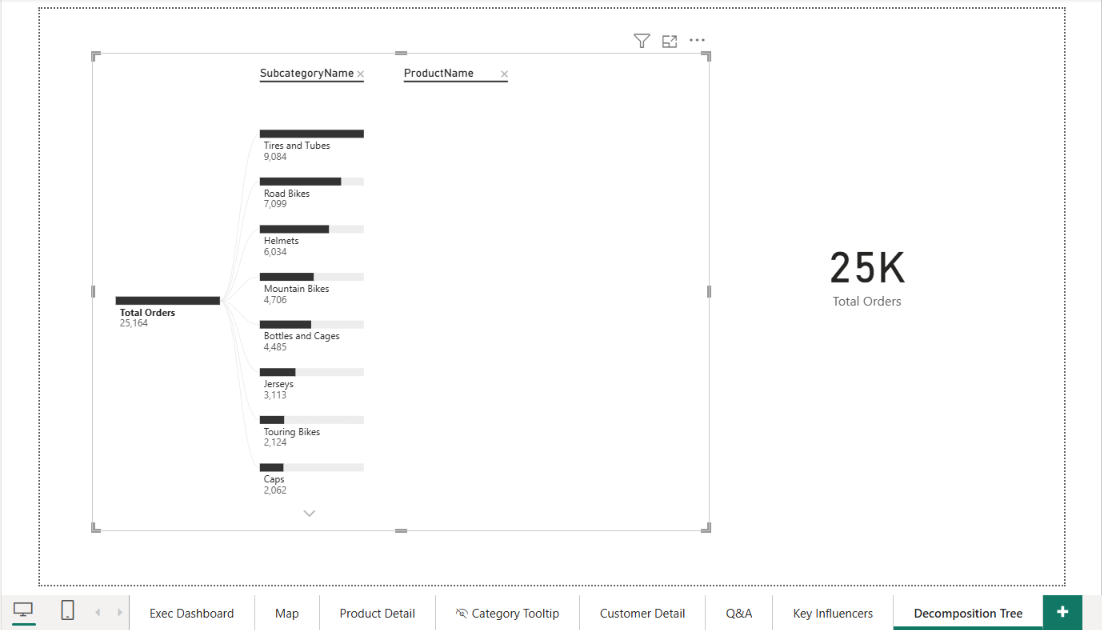

The page's visual inventory and layout, read from the dashboard file:
{"tool":"powerbi","page":{"name":"Decomposition Tree","canvas":[1280,720],"ordinal":7},"visuals":[{"type":"decompositionTreeVisual","fields":{"ExplainBy":["Product Categories Lookup.CategoryName","Product Subcategories Lookup.SubcategoryName","Product Lookup.ProductName"],"Analyze":["Measure Table.Total Orders"]},"box":[64.4,55.4,773.1,597.9],"z":0},{"type":"card","fields":{"Values":["Measure Table.Total Orders"]},"box":[894.1,204.6,280.3,243],"z":1000}]}

Visuals, with their boxes on the page's 1280x720 design canvas (x1, y1, x2, y2). These are canvas units, not pixel positions in the 1102x630 screenshot, which may show the page scaled, cropped or inside an application window:
decompositionTreeVisual - Product Categories Lookup.CategoryName x Product Subcategories Lookup.SubcategoryName: rect(64, 55, 838, 653)
card - Measure Table.Total Orders: rect(894, 205, 1174, 448)
